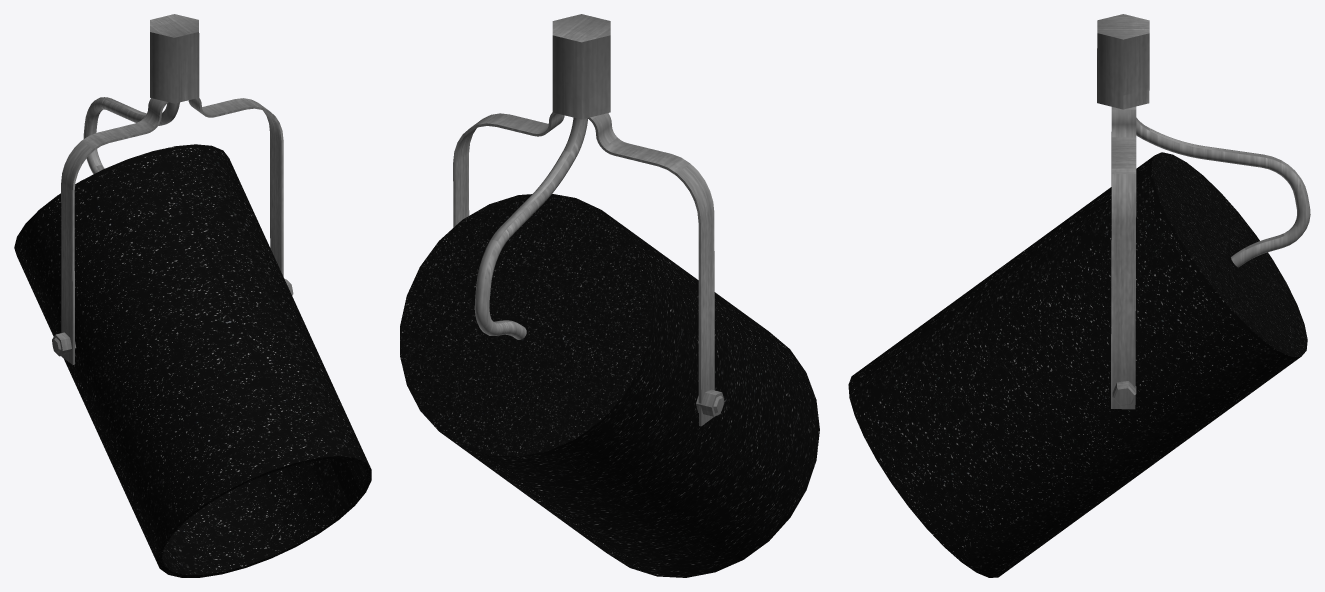
The model's file is Luz_techo.obj.
3 views of the same model, side by side, from view 1: azimuth 30°, elevation 25°; view 2: azimuth 150°, elevation 25°; view 3: azimuth 270°, elevation 25° (orthographic). The views are drawn at different scales.
Parts seen in each view (by area): view 1: Rectangle003; view 2: Rectangle003; view 3: Rectangle003.
Boxes of the visible parts, x1,y1,x2,y2 form: Rectangle003: [14, 14, 371, 577]; Rectangle003: [400, 14, 819, 577]; Rectangle003: [848, 14, 1310, 577].
Bounding box in the file's own units: 1.77 × 3.66 × 2.85.
3 materials, 3 textured.
